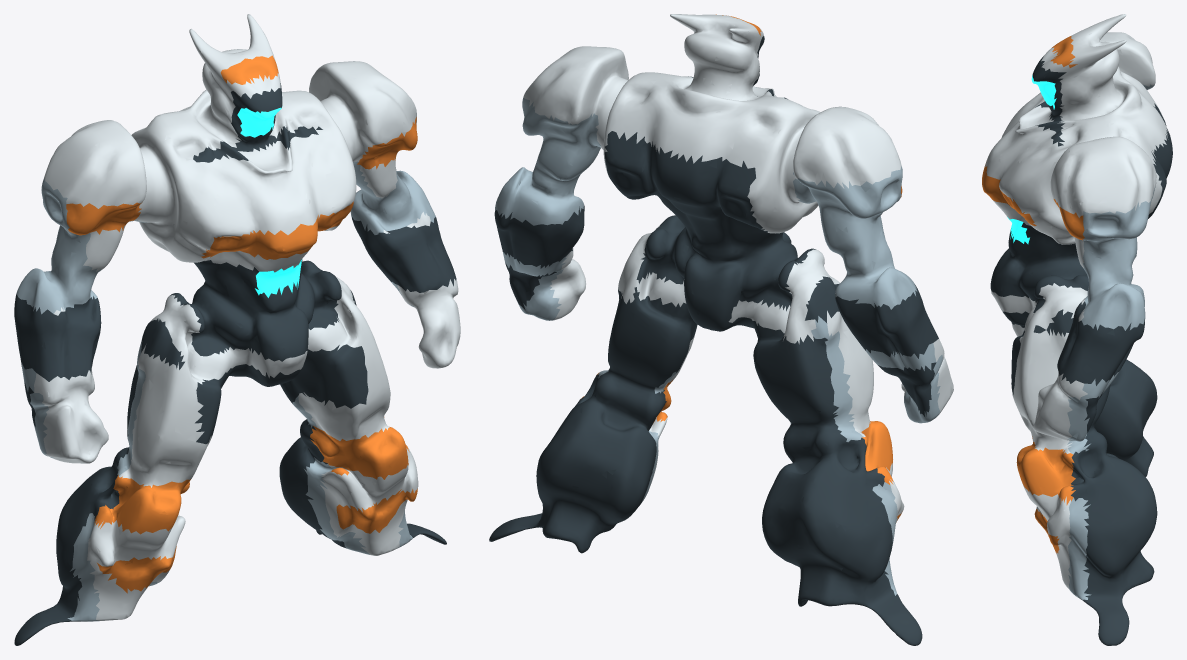
Rendered from striker_full_colored.glb.
The picture shows the model from 3 angles, left to right: view 1: azimuth 30°, elevation 25°; view 2: azimuth 150°, elevation 25°; view 3: azimuth 270°, elevation 25°; orthographic projection. The views are drawn at different scales.
Parts seen in each view (by area): view 1: TRIVERSE | Striker full geometry; view 2: TRIVERSE | Striker full geometry; view 3: TRIVERSE | Striker full geometry.
Boxes of the visible parts, x1,y1,x2,y2 form: TRIVERSE | Striker full geometry: [14, 14, 460, 645]; TRIVERSE | Striker full geometry: [489, 14, 953, 645]; TRIVERSE | Striker full geometry: [982, 14, 1172, 645].
Size of the model in its own units: 2.84 by 3.62 by 1.2.
